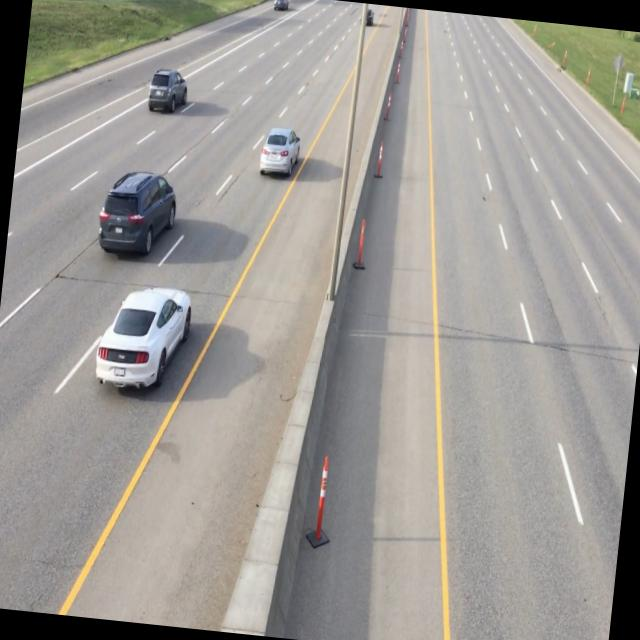Vehicle: (88, 274, 198, 400), (93, 164, 180, 264), (255, 126, 303, 184), (142, 65, 192, 118)
